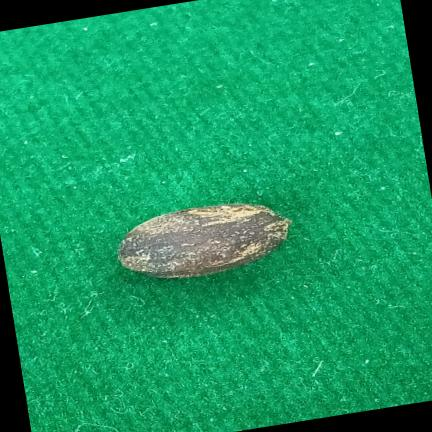husk: (118, 204, 291, 278)
